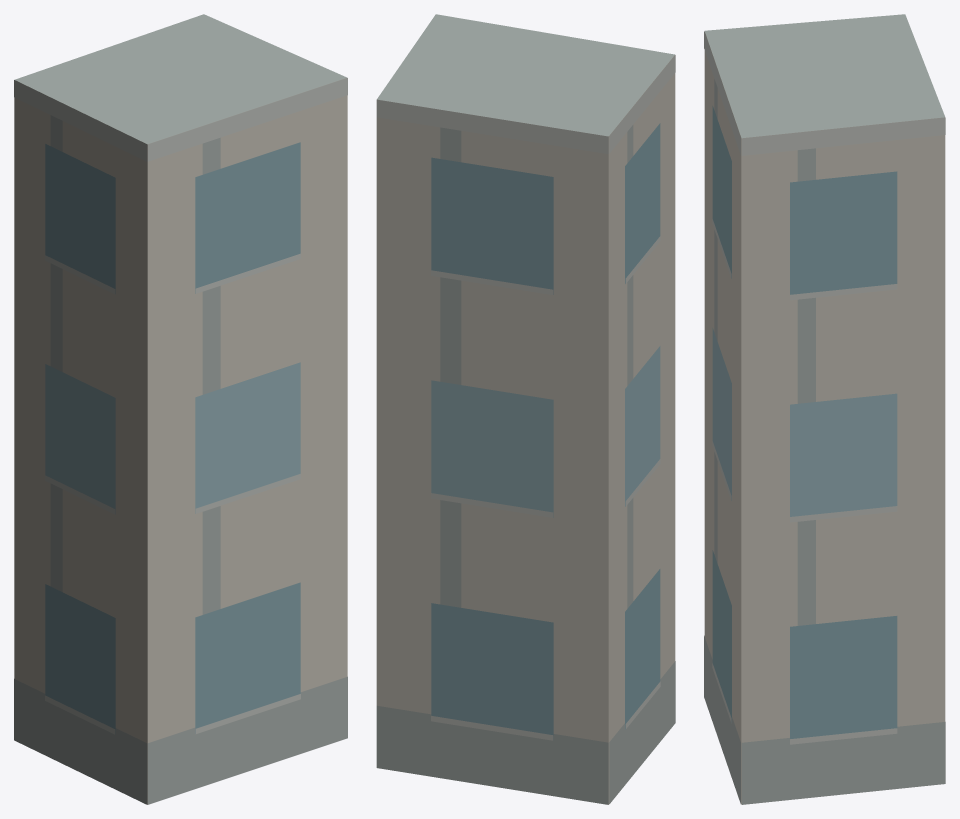
File: survey-upis-32646088.glb
3 renders of one model, left to right at view 1: azimuth 30°, elevation 25°; view 2: azimuth 150°, elevation 25°; view 3: azimuth 270°, elevation 25°, orthographic.
Visible parts, largest first — view 1: survey-upis-32646088.tmp; view 2: survey-upis-32646088.tmp; view 3: survey-upis-32646088.tmp.
Boxes of the visible parts, <box> form: survey-upis-32646088.tmp: <box>14,14,347,804</box>; survey-upis-32646088.tmp: <box>376,14,675,804</box>; survey-upis-32646088.tmp: <box>704,14,945,804</box>.
Bounding box in the file's own units: 3.67 × 9.15 × 3.01.
